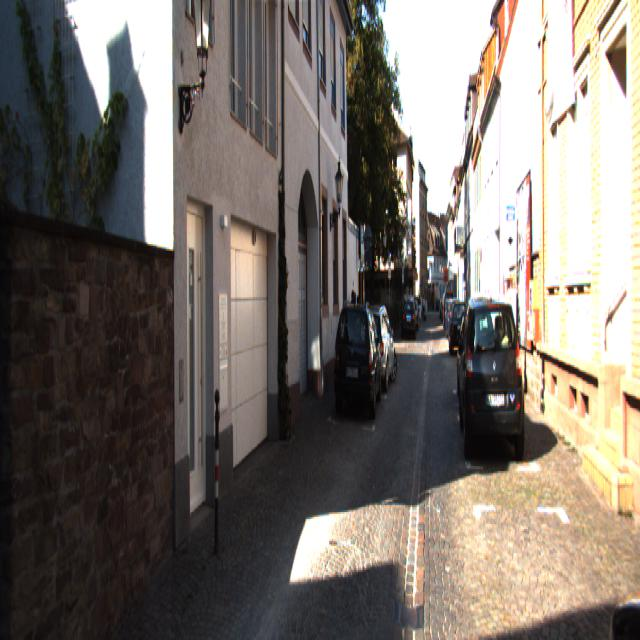Car: (458, 290, 528, 469), (334, 298, 384, 417), (354, 301, 398, 392), (448, 300, 470, 359), (401, 293, 416, 335)
